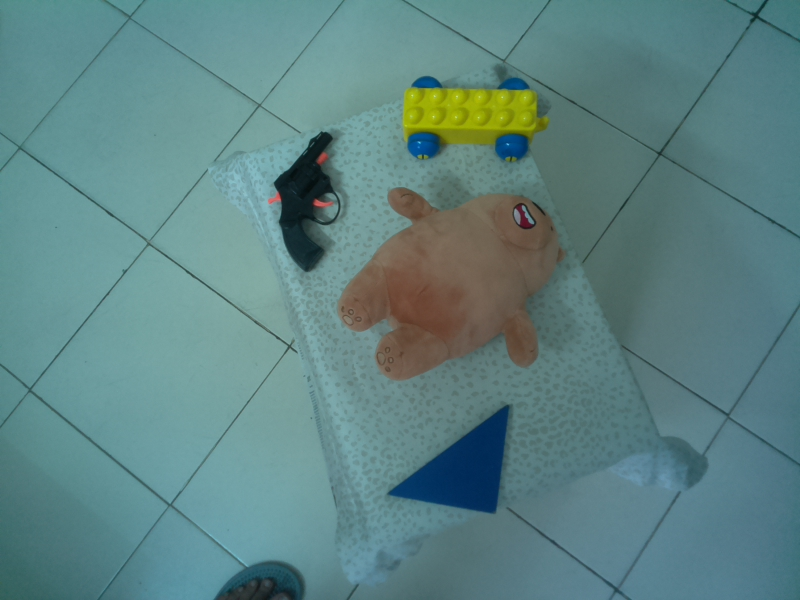Gun: (263, 129, 346, 274)
Triangle: (378, 402, 517, 517)
toy_Car: (396, 74, 557, 167)
